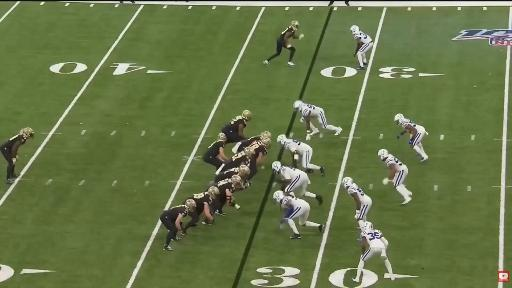Helmet: (231, 175, 242, 188), (394, 113, 405, 125), (20, 128, 33, 138), (378, 149, 389, 160), (185, 200, 196, 211), (342, 177, 353, 188), (208, 187, 219, 198), (261, 137, 271, 149), (277, 134, 287, 145), (239, 165, 249, 176), (274, 191, 284, 202), (244, 147, 255, 157), (242, 110, 251, 121), (272, 162, 281, 173), (363, 222, 373, 230), (294, 100, 302, 110), (398, 118, 409, 125), (291, 21, 299, 30), (218, 133, 226, 141), (350, 26, 359, 33), (261, 132, 271, 138), (288, 192, 295, 197)
Jersey: (282, 196, 309, 225), (361, 230, 385, 249), (188, 192, 212, 211), (347, 184, 371, 203), (284, 139, 311, 155), (163, 205, 188, 221), (237, 136, 261, 152), (2, 134, 26, 149), (281, 195, 308, 208), (279, 166, 306, 179), (299, 103, 322, 117), (230, 152, 250, 168), (225, 116, 246, 131), (206, 141, 225, 157), (216, 168, 239, 181), (250, 141, 267, 158), (216, 179, 234, 195), (386, 155, 404, 171), (279, 27, 295, 41), (354, 32, 372, 43), (401, 119, 416, 128), (246, 136, 261, 143)
Player: (352, 222, 394, 282), (274, 191, 324, 239), (272, 162, 322, 204), (278, 135, 324, 176), (294, 101, 342, 140), (0, 128, 33, 184), (181, 187, 219, 235), (378, 150, 411, 204), (264, 21, 303, 66), (160, 200, 195, 250), (395, 114, 428, 161), (343, 177, 371, 230), (214, 175, 243, 215), (216, 147, 254, 174), (351, 26, 373, 70), (222, 110, 251, 143), (248, 138, 271, 179), (203, 133, 228, 168), (232, 132, 271, 153), (215, 165, 250, 187)
